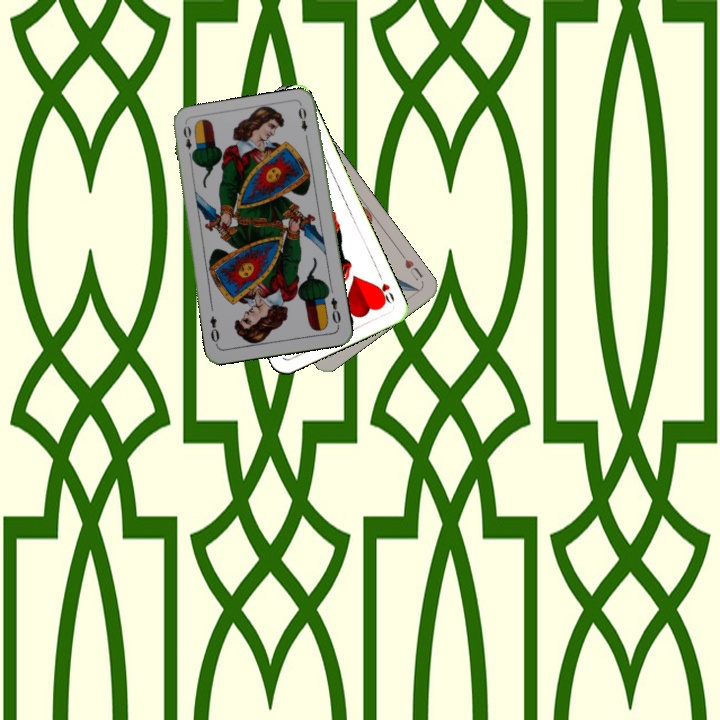EO: (179, 121, 197, 161), (327, 293, 343, 329)
HO: (372, 269, 397, 307)
HU: (401, 255, 425, 283)
